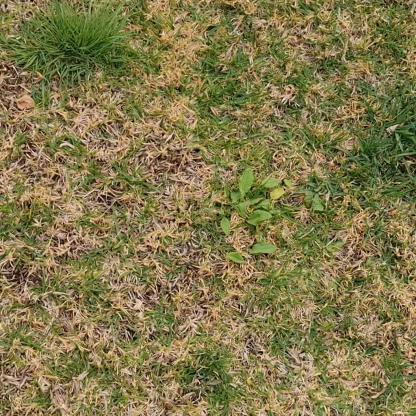Weeds: (221, 168, 293, 264)
